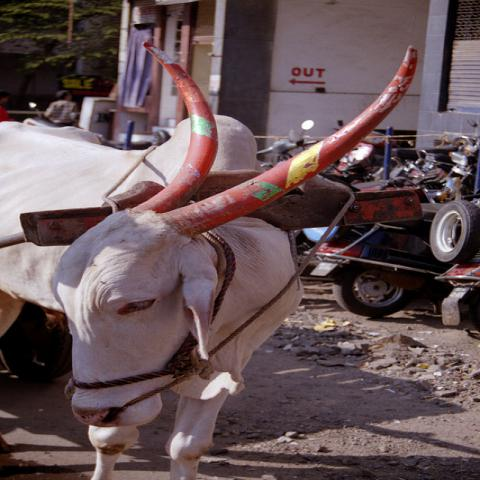motorcycle: (301, 203, 451, 321), (320, 139, 416, 182), (433, 115, 479, 194), (374, 149, 457, 191), (391, 147, 449, 157)
